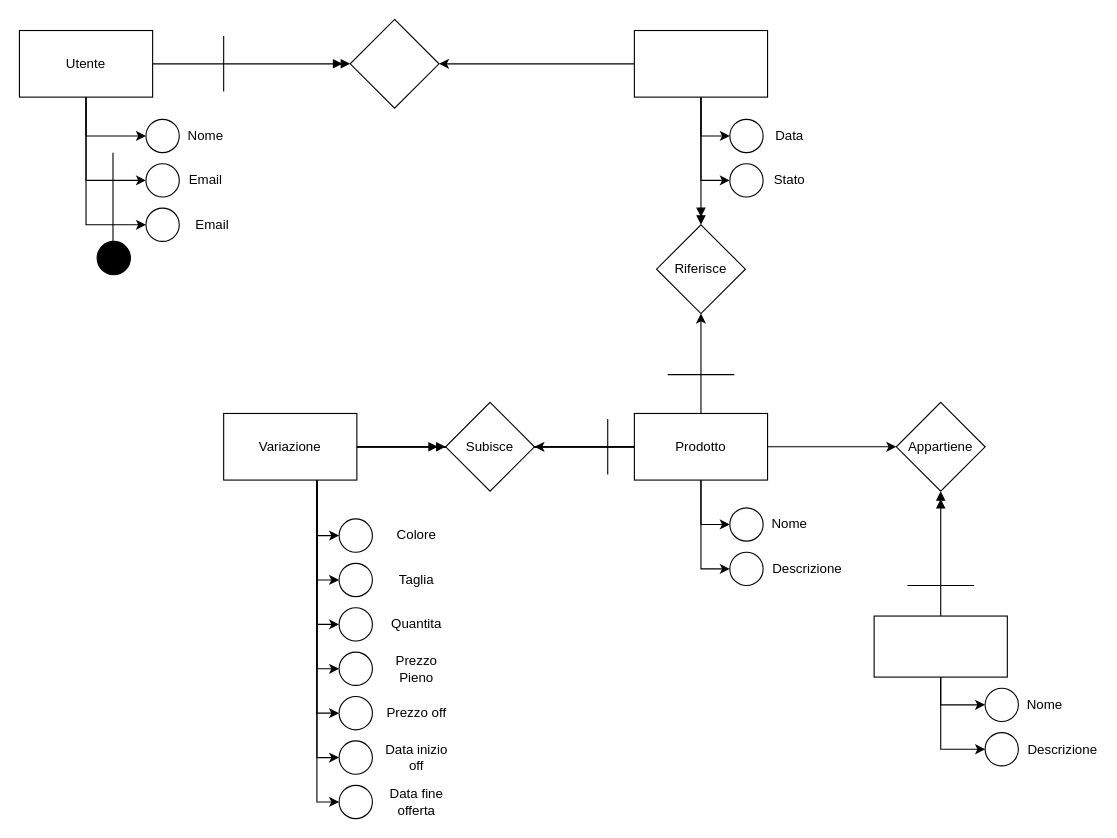
Image size: 1117x838. Some labels were removed from this diagram. Here are the shapes that lost their labels. From the top down, the centre of each, then its label:
At (394,63): "Effettua".
At (700,63): "Ordine".
At (940,646): "Categoria".
